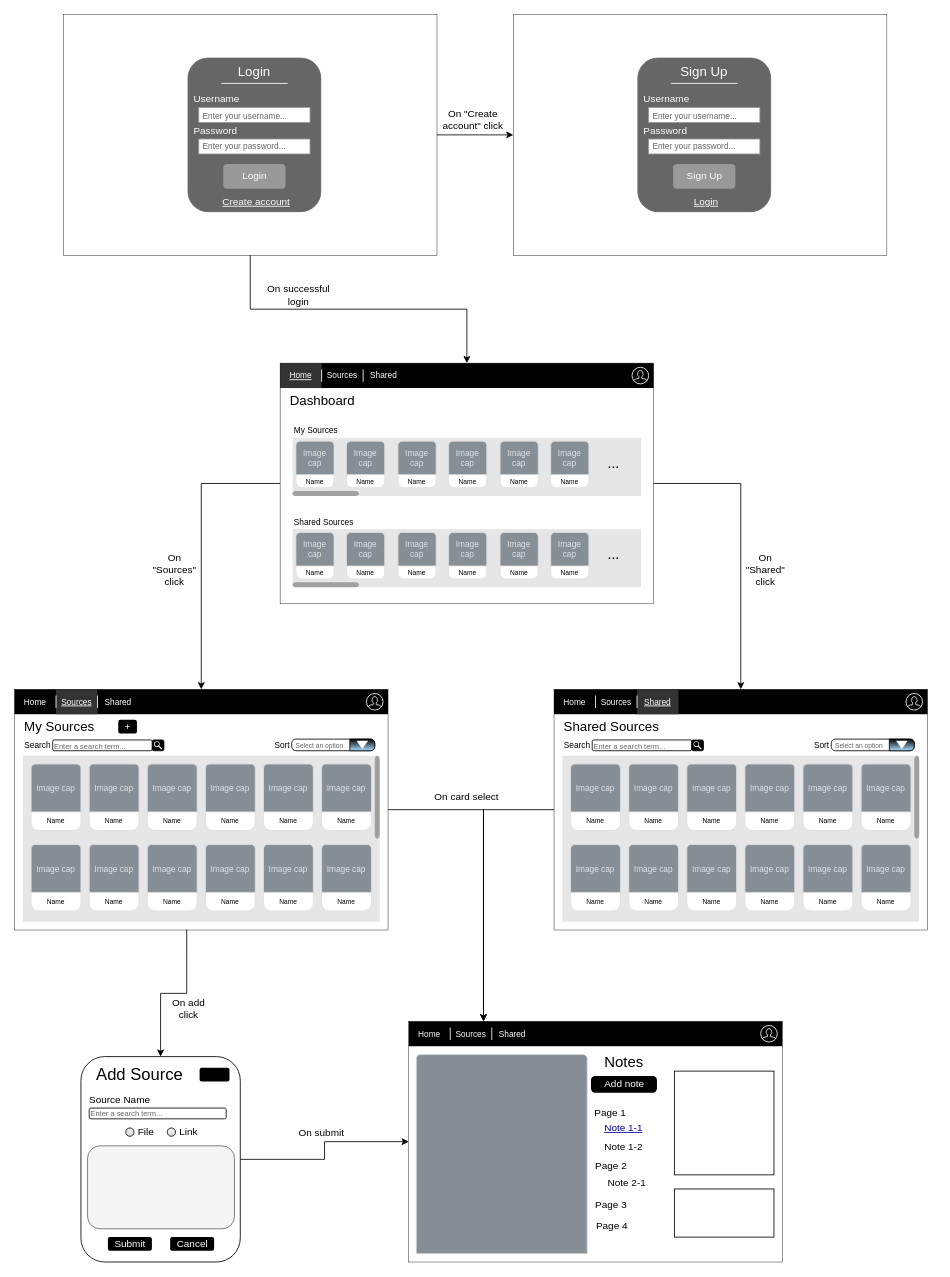
Some shapes in this 950 by 1277 pixel diagram are drawn without their labels. The shapes that lost their labels are listed below. From the top down, each one's centre as x and y in pixels, then its label:
At (x=214, y=1074): "Close".
At (x=724, y=1122): "Note 1-1 text".
At (x=501, y=1154): "PDF".
At (x=160, y=1187): "Meta Data and citation information input".
At (x=724, y=1212): "Tags".
